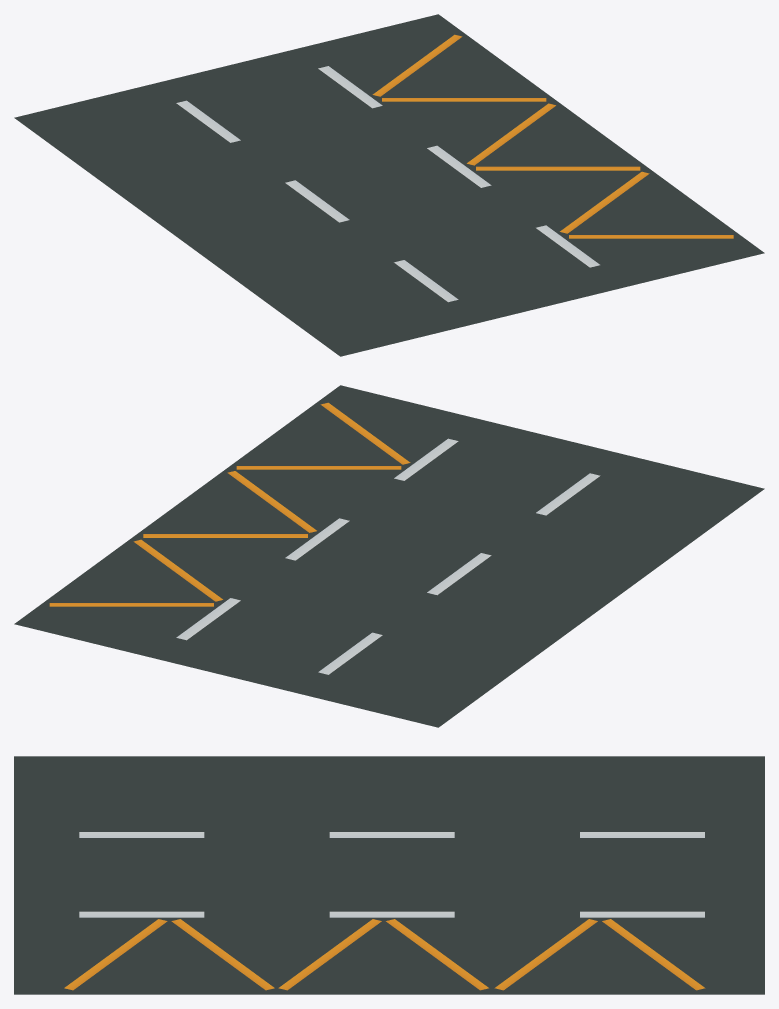
Rendered from Road_2_309.fbx.
3 views of the same model, one above another, from view 1: azimuth 30°, elevation 25°; view 2: azimuth 150°, elevation 25°; view 3: azimuth 270°, elevation 25° (orthographic). The views are drawn at different scales.
Visible parts, largest first — view 1: Road_2_309; view 2: Road_2_309; view 3: Road_2_309.
Boxes of the visible parts, left/top/right/bottom form: Road_2_309: left=14, top=14, right=764, bottom=356; Road_2_309: left=14, top=385, right=764, bottom=727; Road_2_309: left=14, top=756, right=764, bottom=994.
Size of the model in its own units: 1351 by 2.61 by 1800.
